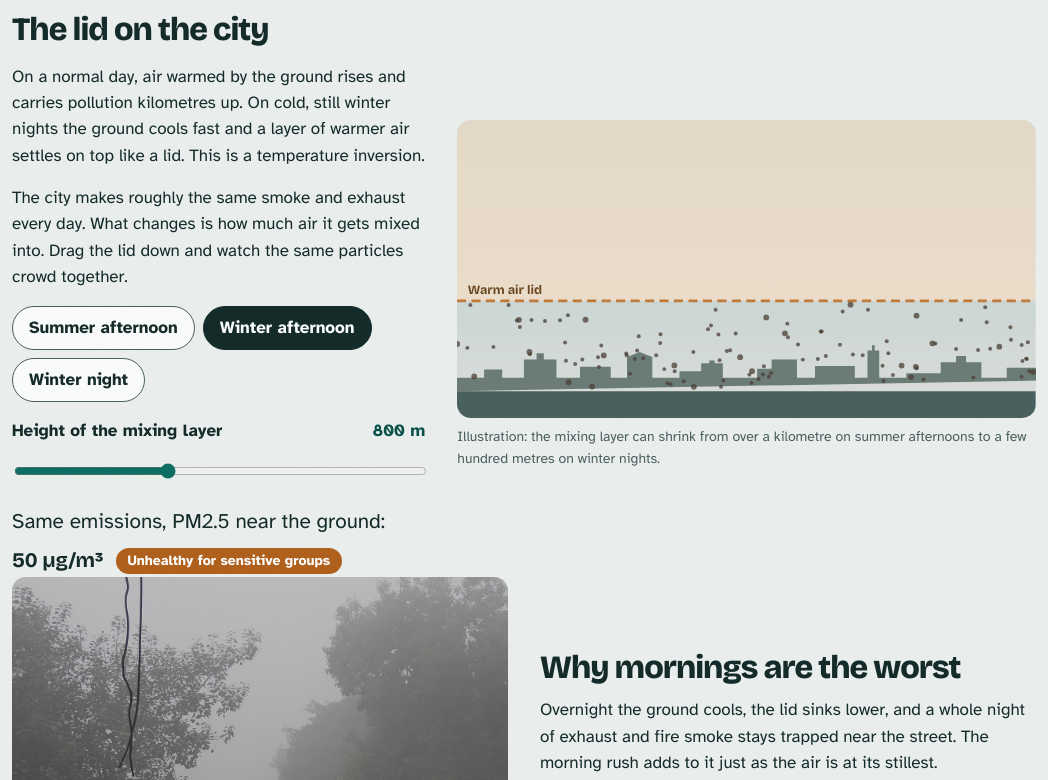
Test: SmogExplainer › is accessible and shows concentration rising as the lid lowers
The width and height of the screenshot is (1048, 780).
Expected: the text "50 µg/m³" is shown, x1=12 y1=545 x2=104 y2=577
Click the button "Winter night" at [79, 380], box x1=12 y1=358 x2=145 y2=402
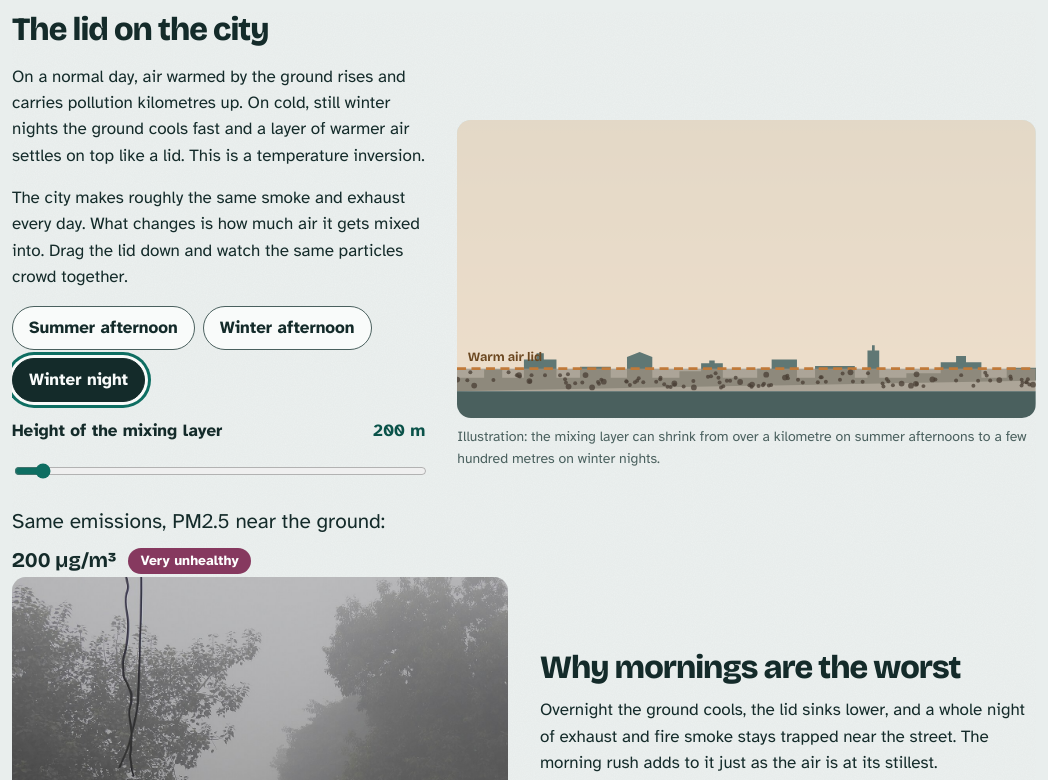
Expected: the text "200 µg/m³" is shown, x1=12 y1=545 x2=116 y2=577
